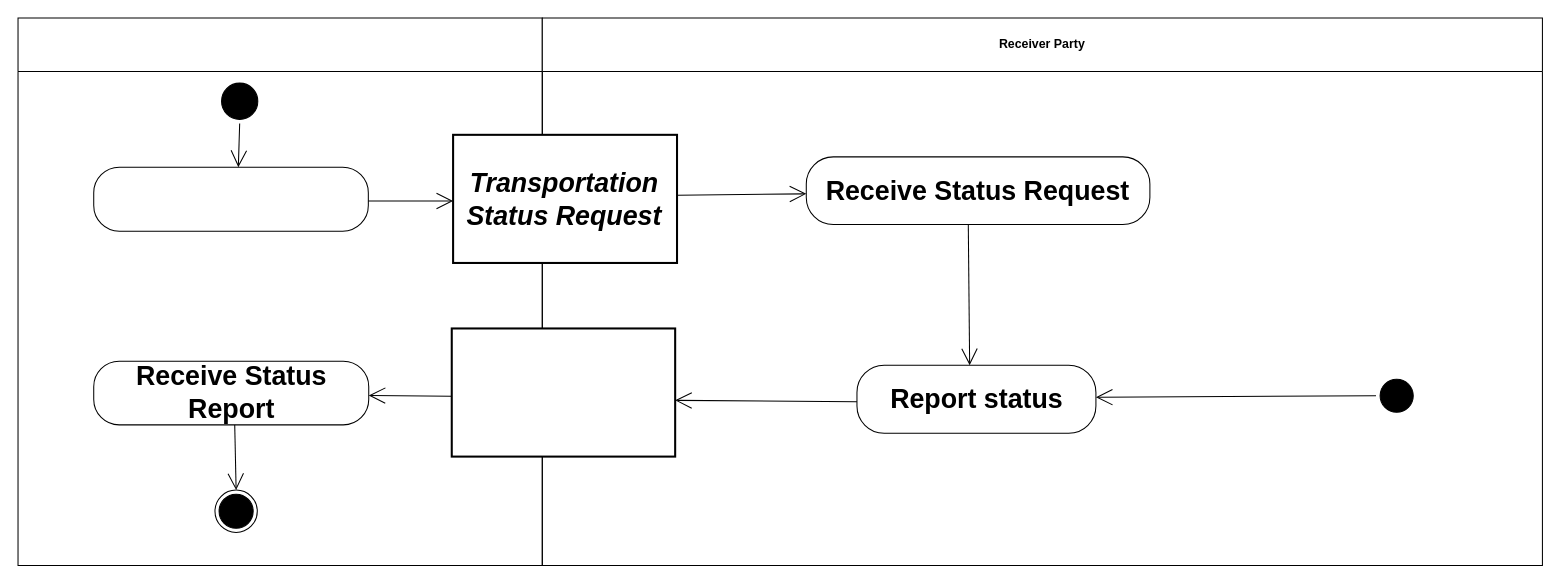
The diagram is 1560 pixels wide and 584 high, and some of its shapes have lost their labels. The box of each missing label's shape, as (x1, y1, x2, y2) in pixels:
Request status: (93, 166, 368, 231)
Sender Party: (17, 17, 542, 565)
Transportation Status: (450, 327, 676, 457)
